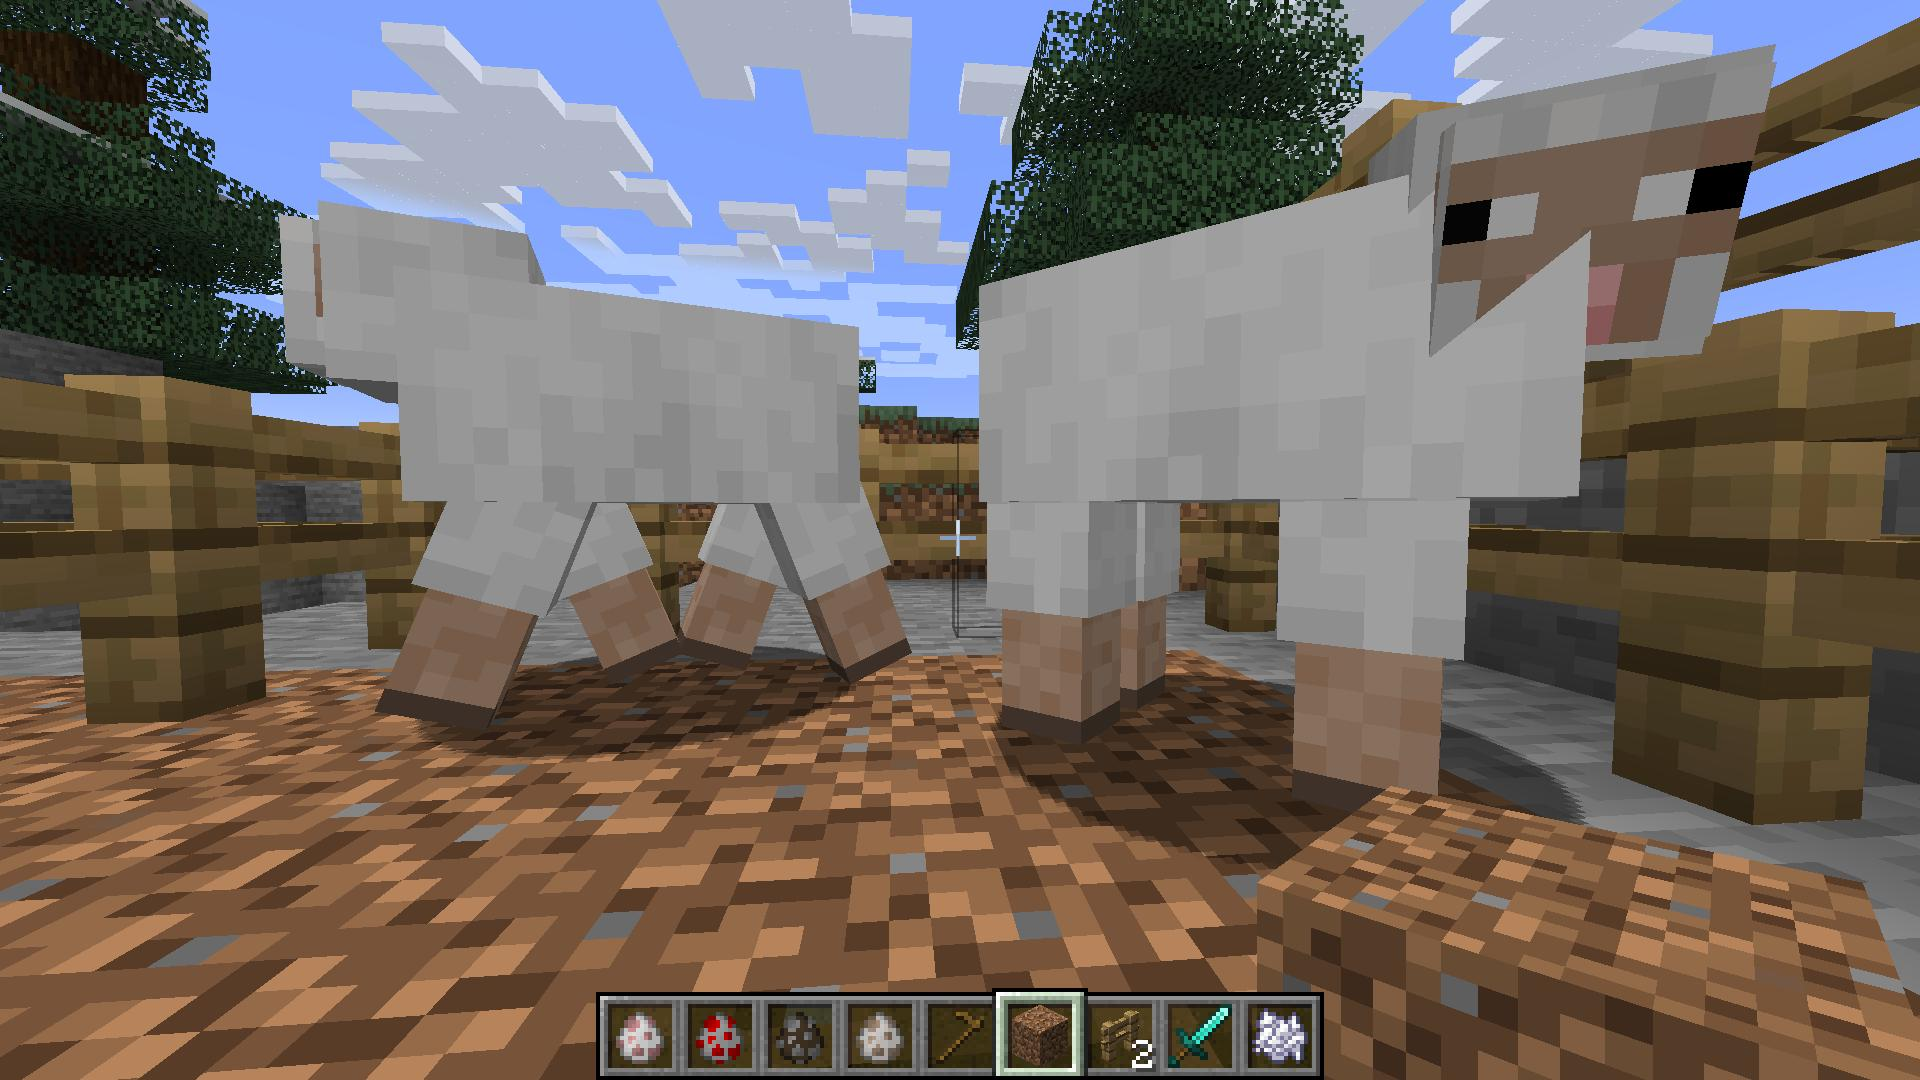sheep: (975, 33, 1797, 808), (249, 198, 919, 738)
